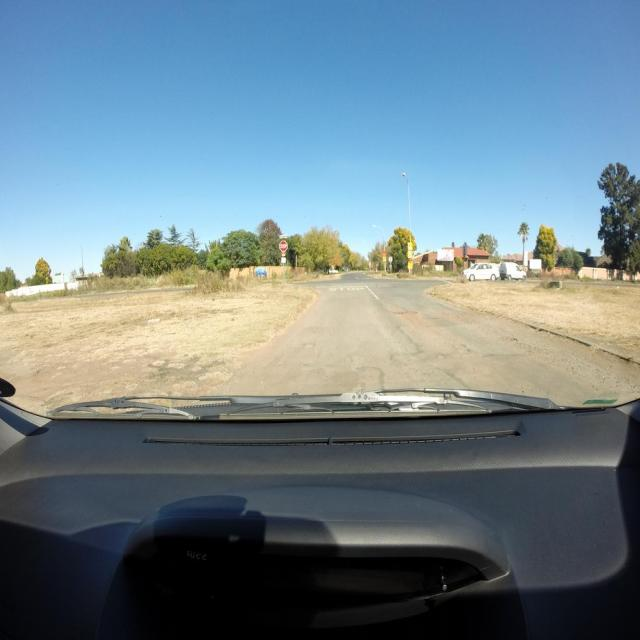Pothole: (395, 310, 418, 315)
